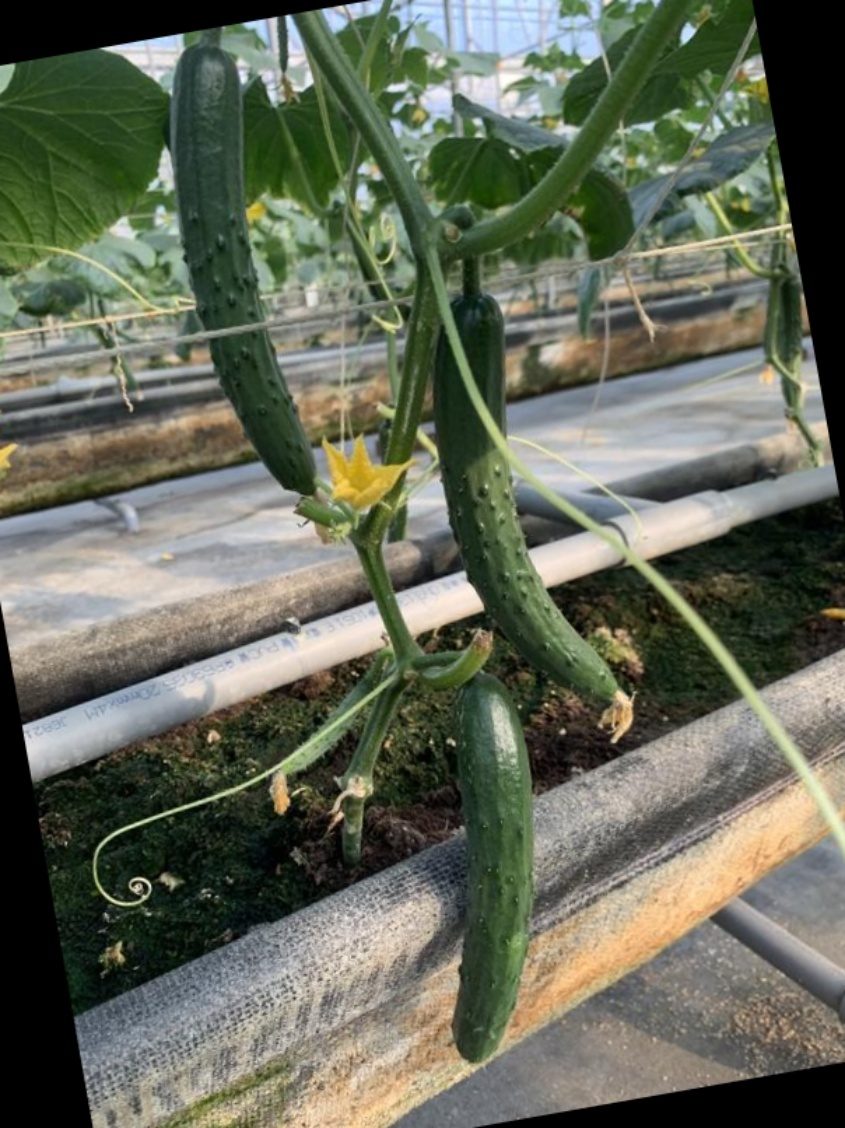mature: (446, 668, 540, 1065)
